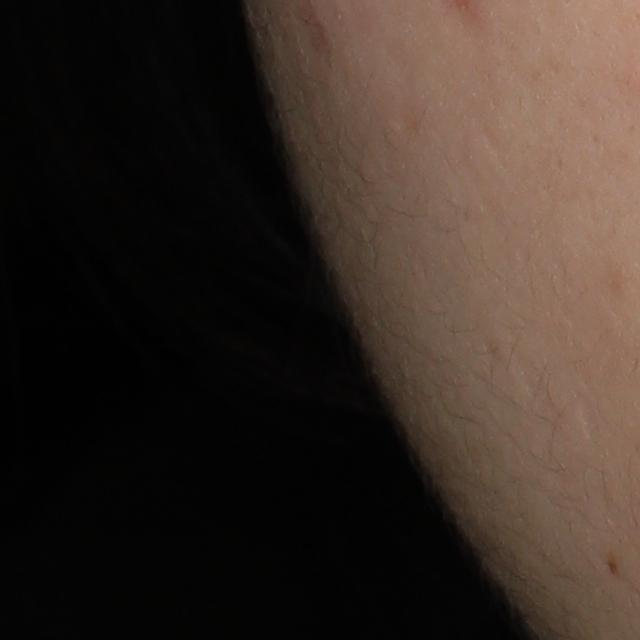nevus: (607, 554, 620, 579)
